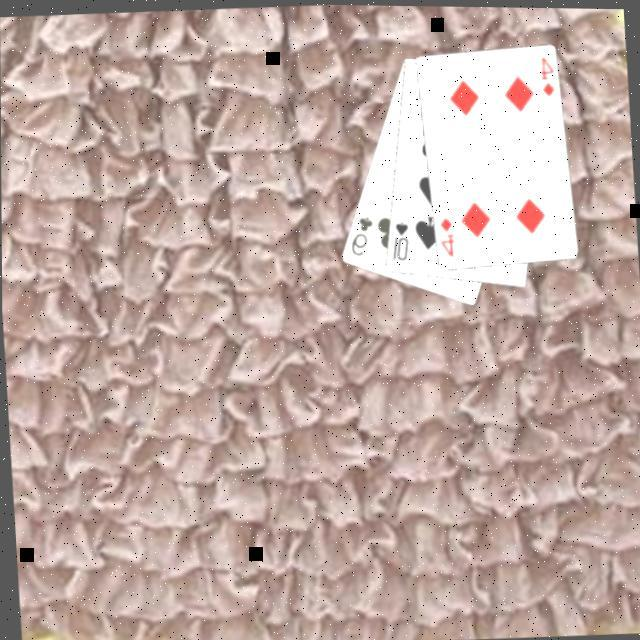10S: (387, 214, 413, 261)
4D: (536, 50, 558, 98), (436, 211, 458, 258)
6C: (346, 209, 378, 257)
